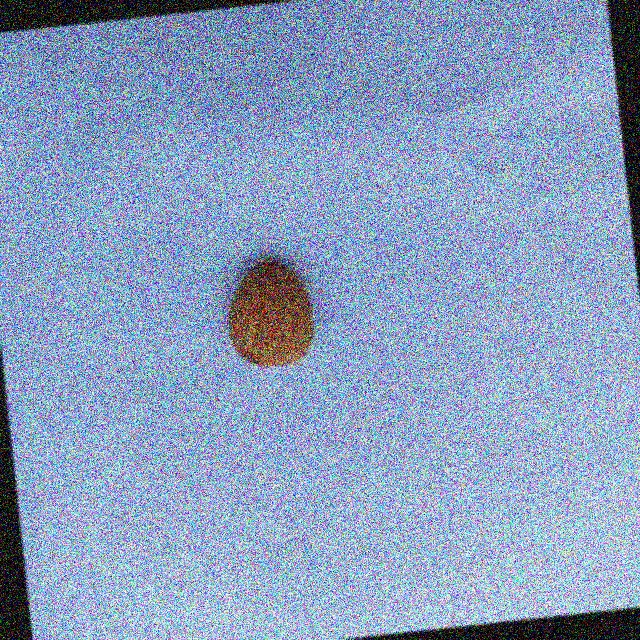grade1: (214, 247, 328, 379)
